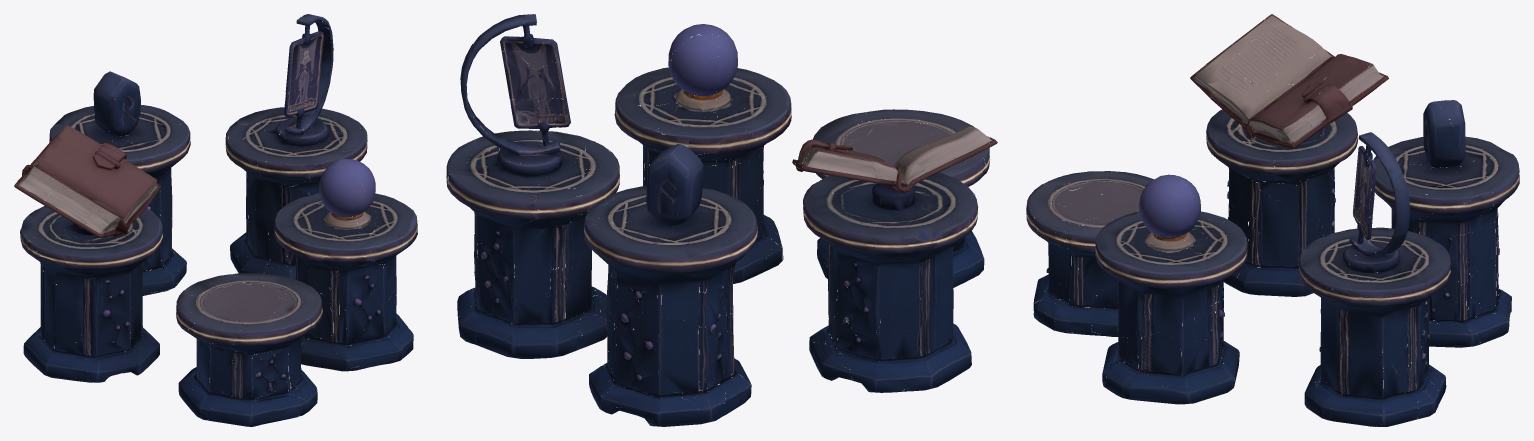
File: reliquia-del-oraculo.glb
3 views of the same model, side by side, from view 1: azimuth 30°, elevation 25°; view 2: azimuth 150°, elevation 25°; view 3: azimuth 270°, elevation 25° (orthographic). The views are drawn at different scales.
Visible parts, largest first — view 1: tripo_node_f4d9d1a1-e0d5-4b0e-8774-f8dd7bb077fa; view 2: tripo_node_f4d9d1a1-e0d5-4b0e-8774-f8dd7bb077fa; view 3: tripo_node_f4d9d1a1-e0d5-4b0e-8774-f8dd7bb077fa.
Boxes of the visible parts, <box> form: tripo_node_f4d9d1a1-e0d5-4b0e-8774-f8dd7bb077fa: <box>14,14,417,426</box>; tripo_node_f4d9d1a1-e0d5-4b0e-8774-f8dd7bb077fa: <box>446,14,997,426</box>; tripo_node_f4d9d1a1-e0d5-4b0e-8774-f8dd7bb077fa: <box>1026,14,1519,426</box>.
Bounding box in the file's own units: 0.9703 × 0.5842 × 0.9798.
Materials: 1 (1 with a texture image).
